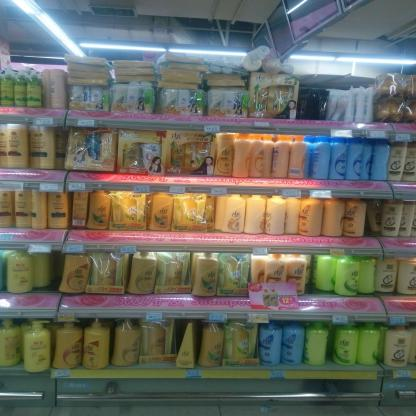Void: (371, 206, 383, 237), (52, 254, 57, 290)
